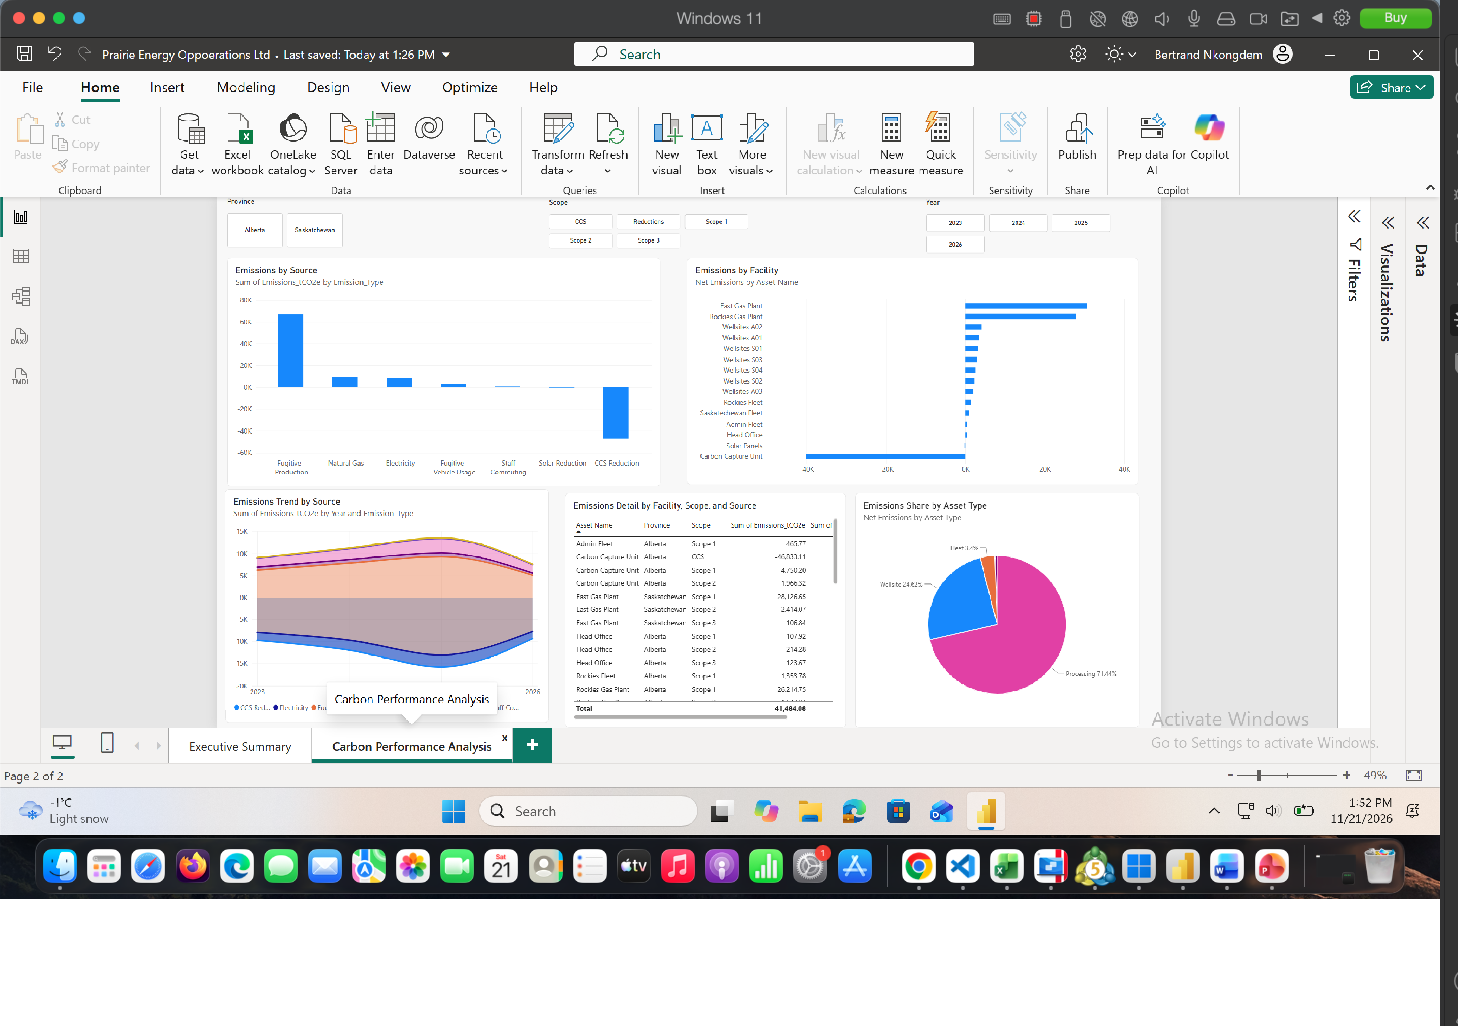

This screenshot's page, from the dashboard's own definition file:
{"tool":"powerbi","page":{"name":"Carbon Performance Analysis","canvas":[1920,1080],"ordinal":1},"visuals":[{"type":"clusteredColumnChart","title":"Emissions by Source","fields":{"Category":["Emissions.Emission_Type"],"Y":["Sum(Emissions.Emissions_tCO2e)"]},"box":[20.7,124,881.9,463.9],"z":0},{"type":"clusteredBarChart","title":"Emissions by Facility","fields":{"Category":["Assets.Asset Name"],"Y":["Emissions.Net Emissions"]},"box":[955.4,124,918.7,461.6],"z":1000},{"type":"stackedAreaChart","title":"Emissions Trend by Source","fields":{"Category":["Dates.Date.Variation.Date Hierarchy.Year","Dates.Date.Variation.Date Hierarchy.Quarter","Dates.Date.Variation.Date Hierarchy.Month","Dates.Date.Variation.Date Hierarchy.Day"],"Series":["Emissions.Emission_Type"],"Y":["Sum(Emissions.Emissions_tCO2e)"]},"box":[16.1,594.8,659.1,475.4],"z":2000},{"type":"tableEx","title":"Emissions Detail by Facility, Scope, and Source","fields":{"Values":["Assets.Asset Name","Assets.Province","Emission Scope.Scope","Sum(Emissions.Emissions_tCO2e)","Sum(Production.Production (BOE))"]},"box":[707.4,601.7,571.9,477.7],"z":3000},{"type":"advancedSlicerVisual","fields":{"Values":["Assets.Province"]},"box":[20.7,0,236.6,103.3],"z":4000},{"type":"advancedSlicerVisual","fields":{"Values":["Emission Scope.Scope"]},"box":[675.2,2.3,408.8,103.3],"z":5000},{"type":"advancedSlicerVisual","fields":{"Values":["Dates.Date.Variation.Date Hierarchy.Year"]},"box":[1442.3,2.3,376.7,112.5],"z":6000},{"type":"pieChart","title":"Emissions Share by Asset Type","fields":{"Category":["Assets.Asset Type"],"Y":["Emissions.Net Emissions"]},"box":[1297.6,601.7,578.8,477.7],"z":7000}]}

Visuals, with their boxes on the page's 1920x1080 design canvas (x1, y1, x2, y2). These are canvas units, not pixel positions in the 1458x1026 screenshot, which may show the page scaled, cropped or inside an application window:
"Emissions by Source" clusteredColumnChart: [21,124,903,588]
"Emissions by Facility" clusteredBarChart: [955,124,1874,586]
"Emissions Trend by Source" stackedAreaChart: [16,595,675,1070]
"Emissions Detail by Facility, Scope, and Source" tableEx: [707,602,1279,1079]
advancedSlicerVisual - Assets.Province: [21,0,257,103]
advancedSlicerVisual - Emission Scope.Scope: [675,2,1084,106]
advancedSlicerVisual - Dates.Date.Variation.Date Hierarchy.Year: [1442,2,1819,115]
"Emissions Share by Asset Type" pieChart: [1298,602,1876,1079]
